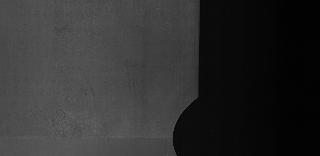welding line: (2, 132, 182, 146)
